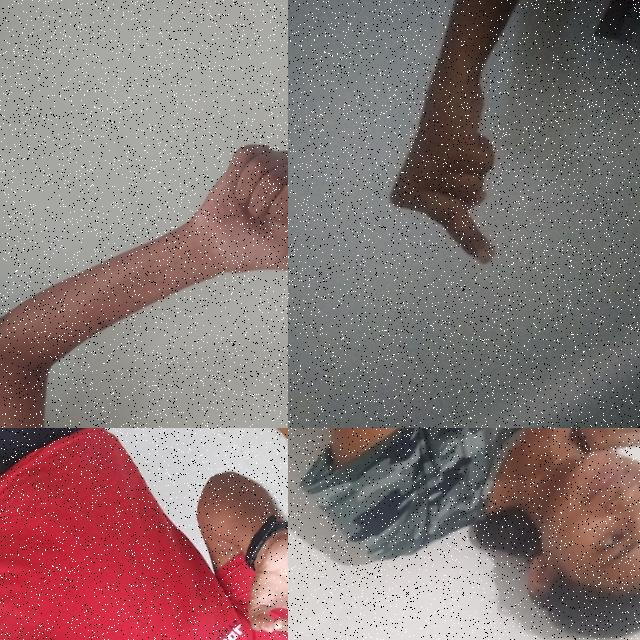Fist Mouth: (424, 428, 640, 640)
Middle Finger: (340, 44, 578, 288)
Okay: (204, 501, 288, 640)
Thumbs Up: (152, 101, 288, 352)
